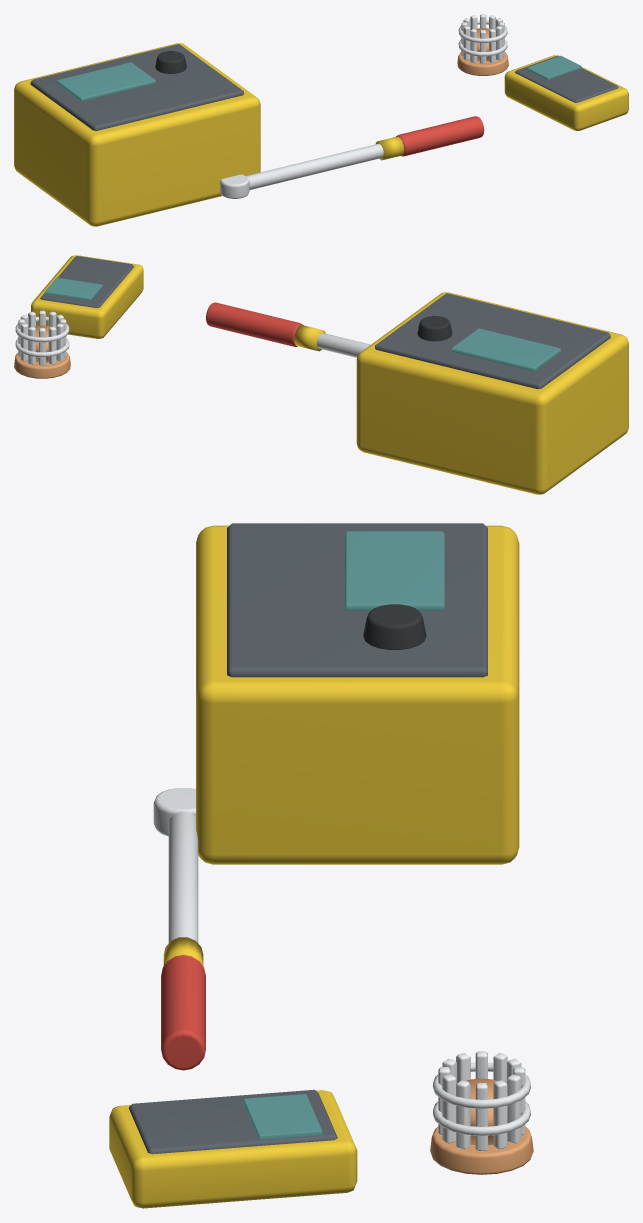
The model's file is workbench-tools.glb.
3 renders of one model, top to bottom at view 1: azimuth 30°, elevation 25°; view 2: azimuth 150°, elevation 25°; view 3: azimuth 270°, elevation 25°, orthographic. The views are drawn at different scales.
Parts seen in each view (by area): view 1: WorkbenchToolsAssembly; view 2: WorkbenchToolsAssembly; view 3: WorkbenchToolsAssembly.
Part boxes in pixels (x1,y1,x2,y2): WorkbenchToolsAssembly: (14, 14, 628, 226); WorkbenchToolsAssembly: (14, 255, 628, 494); WorkbenchToolsAssembly: (109, 523, 533, 1208).
Size of the model in its own units: 0.9715 by 0.19 by 0.3414.
